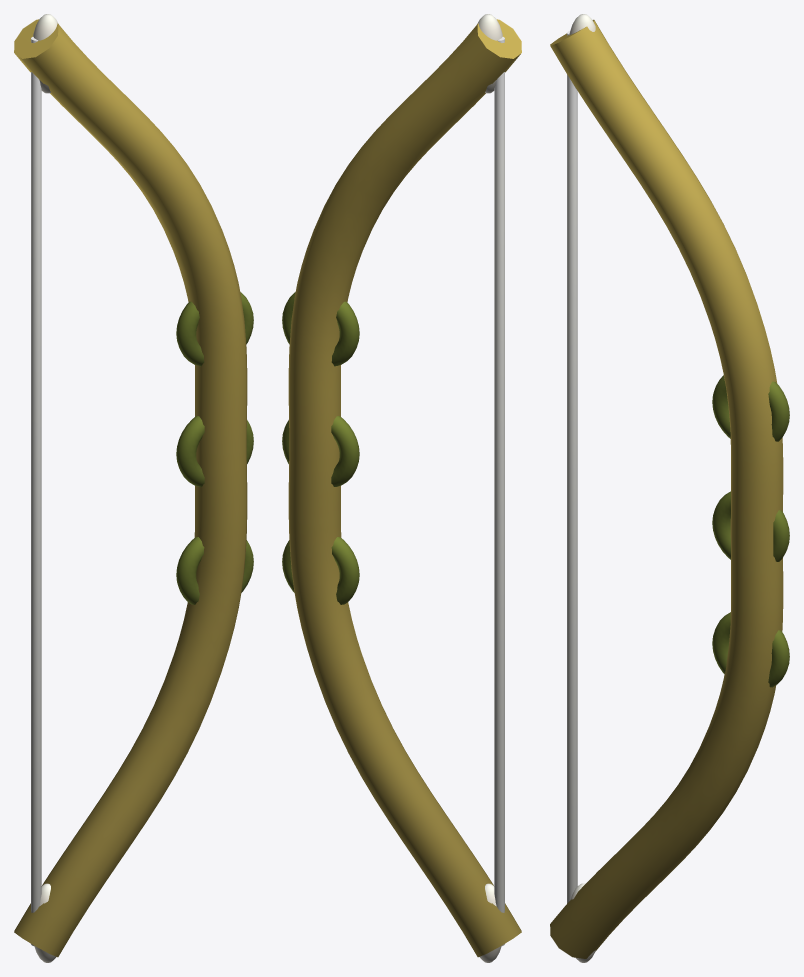
Rendered from arco_liana.glb.
3 views of the same model, side by side, from view 1: azimuth 30°, elevation 25°; view 2: azimuth 150°, elevation 25°; view 3: azimuth 330°, elevation 25° (orthographic).
Parts seen in each view (by area): view 1: arco_liana_fijo; view 2: arco_liana_fijo; view 3: arco_liana_fijo.
Part boxes in pixels (x1,y1,x2,y2): arco_liana_fijo: (14, 14, 253, 962); arco_liana_fijo: (282, 14, 521, 962); arco_liana_fijo: (550, 14, 789, 962).
Bounding box in the file's own units: 0.4062 × 1.57 × 0.08.
1 material, 1 textured.
